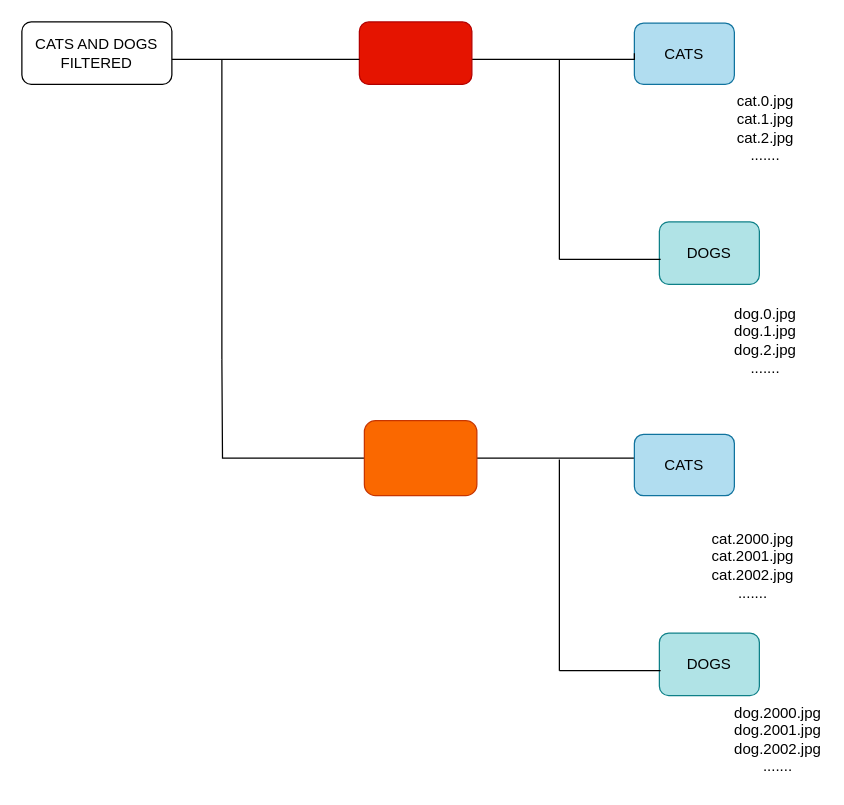
The diagram is 844 pixels wide and 805 high, and some of its shapes have lost their labels. The shapes that lost their labels are listed below. From the top down, each one's centre as x and y in pixels, then its label:
the point at 415,52: TRAIN
the point at 420,457: VALIDATION
